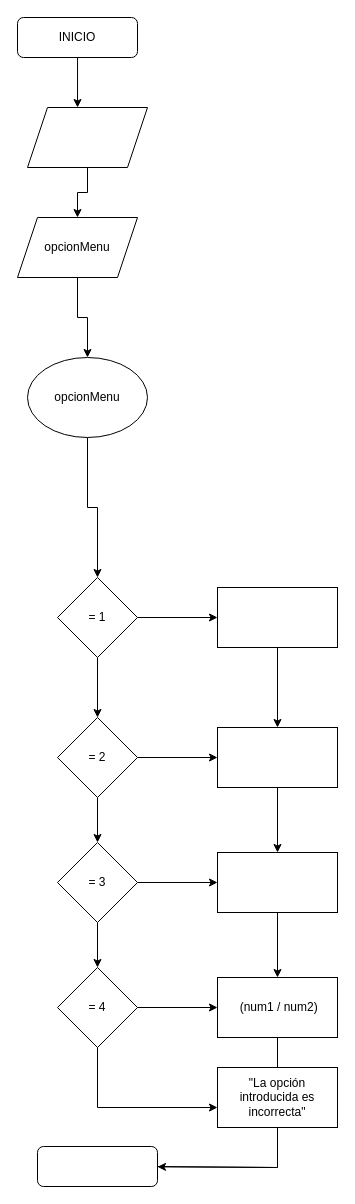
Some shapes in this 355 by 1204 pixel diagram are drawn without their labels. Here are the shapes that lost their labels. From the top down, the centre of each, then its label:
At (87,137): "num1 + num 2".
At (277,617): "(num1 + num2)".
At (277,757): "(num1 - num2)".
At (277,882): "(num1 * num2)".
At (97,1166): "FIN".
